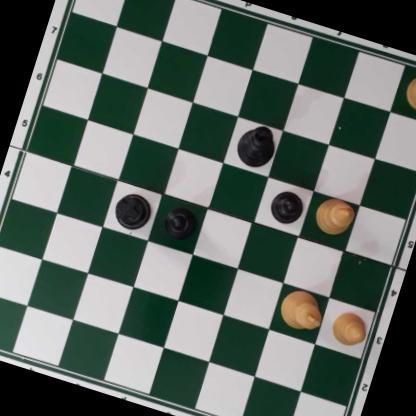black-king: (232, 118, 283, 171)
black-pawn: (266, 185, 308, 228), (158, 201, 200, 243)
black-rook: (110, 189, 156, 233)
white-bishop: (310, 193, 359, 240)
white-king: (275, 285, 329, 336)
white-pawn: (327, 307, 371, 350)
white-rook: (401, 57, 416, 119)
